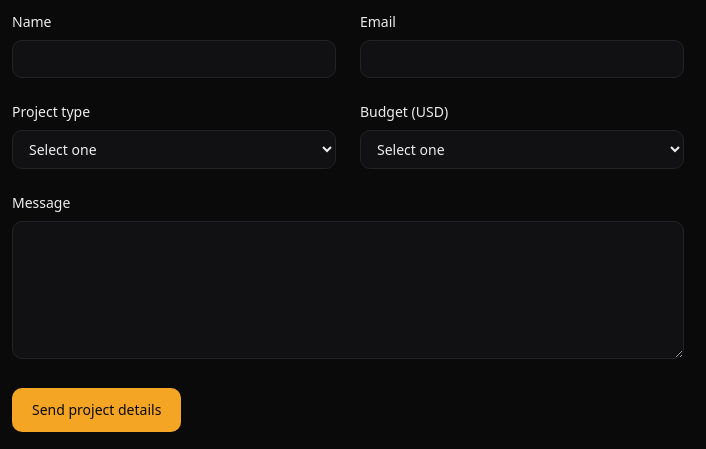
Test: ContactForm › shows a generic error on other failures
Type "Test User" into the field labelled "Name" at [174, 59], box [12,40,336,78]
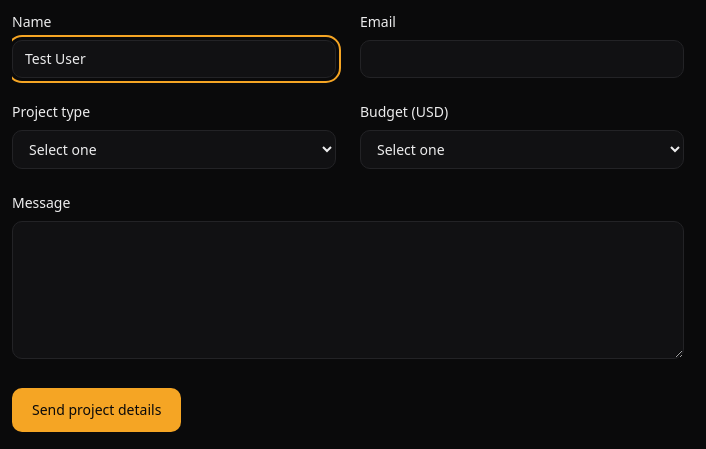
Type "test@example.com" into the field labelled "Email" at [522, 59], box [360,40,684,78]
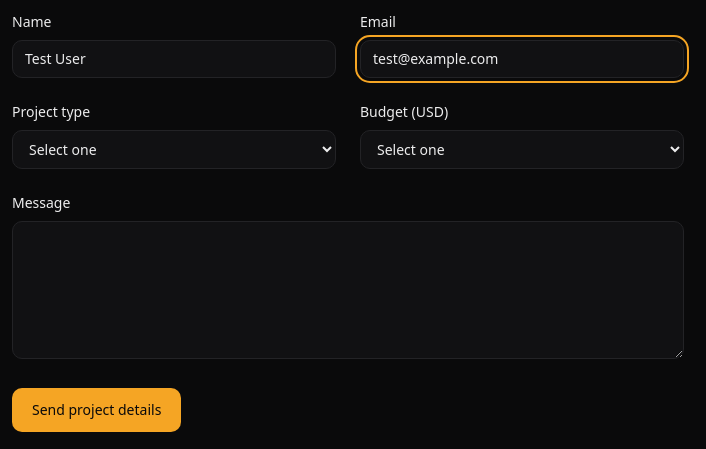
Select "Web scraping" in the dropdown labelled "Project type" at [174, 150], box [12,130,336,169]
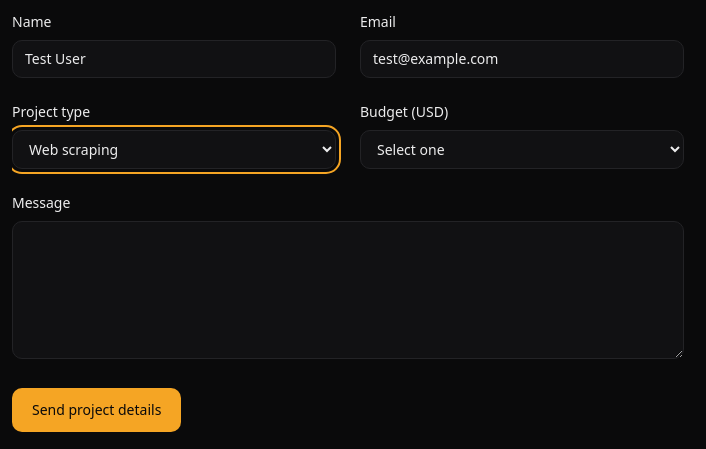
Select "Not sure yet" in the dropdown labelled "Budget (USD)" at [522, 150], box [360,130,684,169]
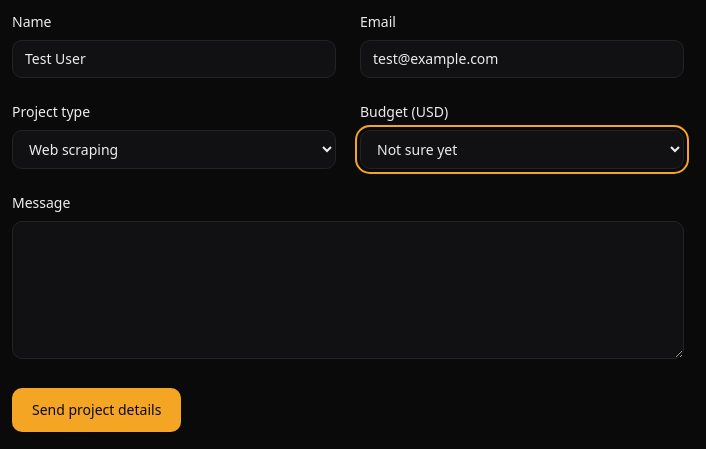
Type "I need data from a website." into the text box labelled "Message" at [348, 290], box [12,221,684,359]
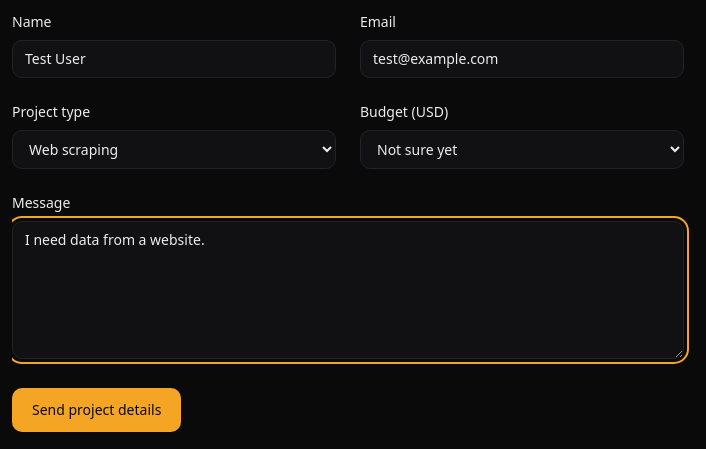
Click the button "Send project details" at [97, 410], box [12,388,181,432]
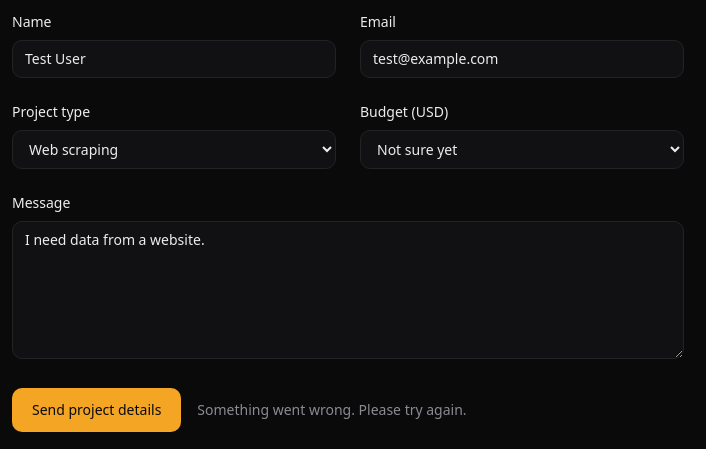
Now the text "Something went wrong. Please try again." is shown, box [197,400,467,420]
